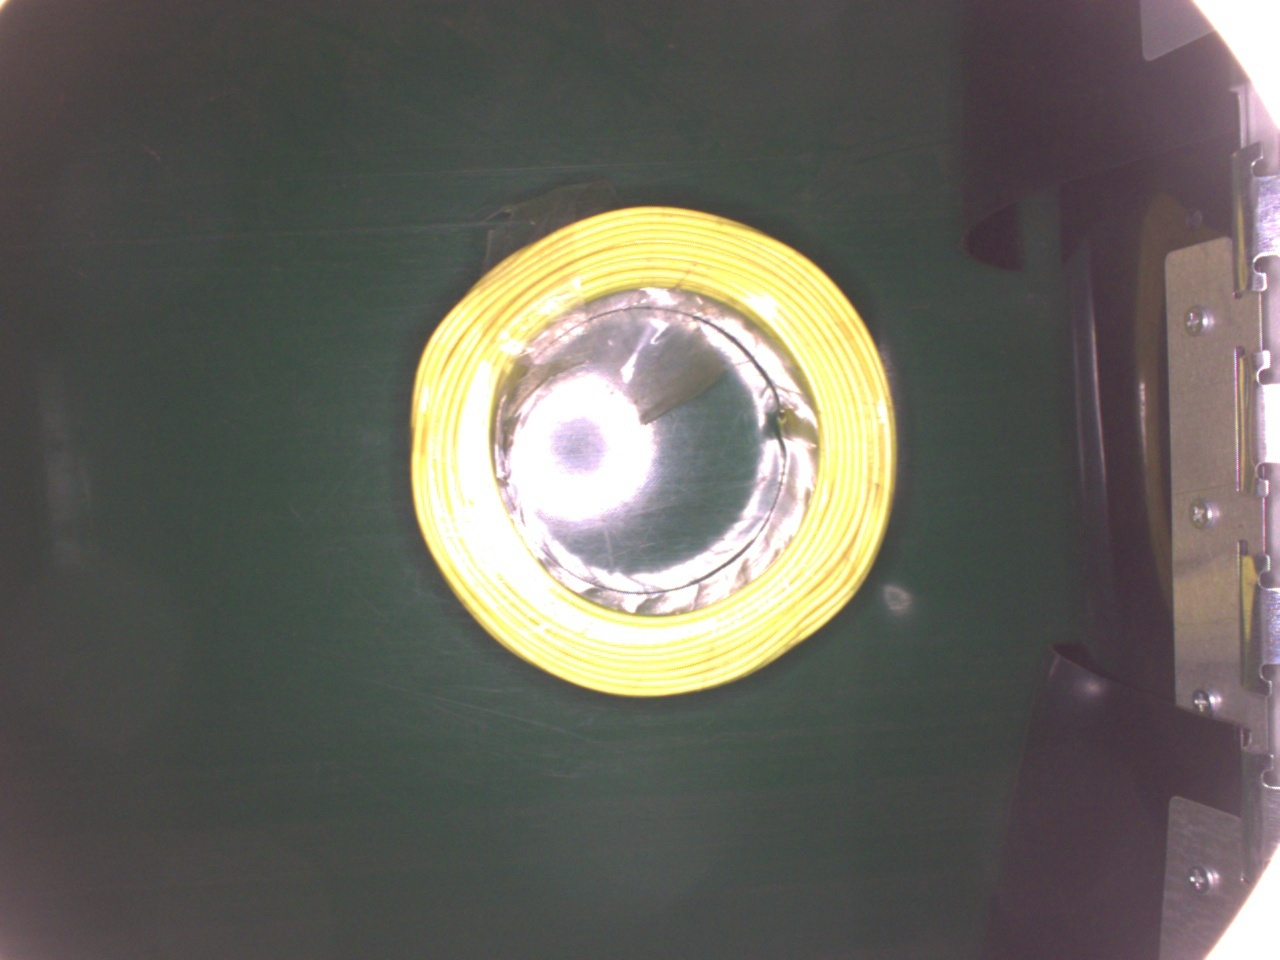yellow: (403, 200, 898, 700)
